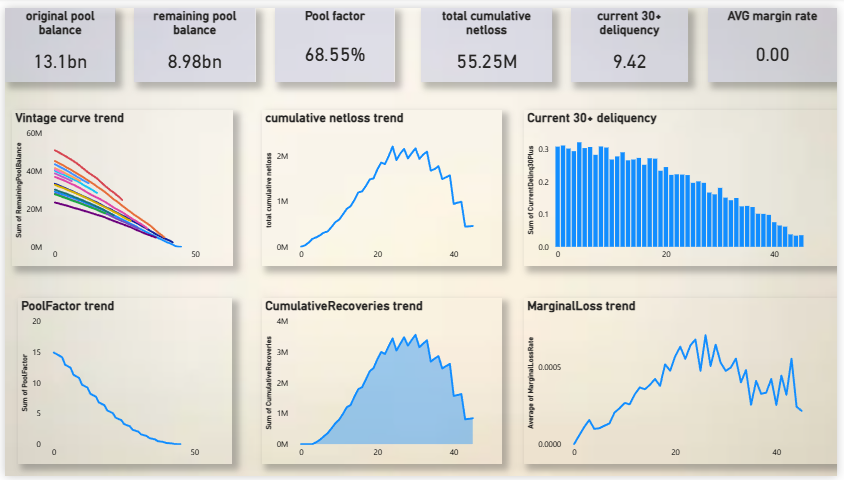

Layout of this report page (visuals, bound fields, positions):
{"tool":"powerbi","page":{"name":"vintage analysis","canvas":[1280,720],"ordinal":4},"visuals":[{"type":"kpi","title":"original pool balance","fields":{"Indicator":["staticpool.Original pool balance"],"TrendLine":["loans.LoanID"]},"box":[0,0,169.9,113.8],"z":0},{"type":"kpi","title":"remaining pool balance","fields":{"Indicator":["staticpool.Remaining pool balance"],"TrendLine":["loans.LoanID"]},"box":[198.7,0,187.2,113.8],"z":1000},{"type":"kpi","title":"Pool factor","fields":{"Indicator":["staticpool.pool factor"],"TrendLine":["loans.LoanID"]},"box":[414.7,0,184.3,113.8],"z":2000},{"type":"kpi","title":"total cumulative netloss","fields":{"Indicator":["staticpool.total cumulative netloss"],"TrendLine":["loans.LoanID"]},"box":[639.4,0,201.6,113.8],"z":3000},{"type":"kpi","title":"current 30+ deliquency","fields":{"Indicator":["staticpool.current 30+ deliquency"],"TrendLine":["loans.LoanID"]},"box":[871.2,0,180,113.8],"z":4000},{"type":"kpi","title":"AVG margin rate","fields":{"Indicator":["staticpool.Average marginloss rate"],"TrendLine":["loans.LoanID"]},"box":[1081.4,0,198.7,113.8],"z":5000},{"type":"lineChart","title":"Vintage curve trend","fields":{"Category":["staticpool.MonthsOnBook"],"Y":["Sum(staticpool.RemainingPoolBalance)"],"Series":["staticpool.VintageID"]},"box":[10.1,157,339.8,240.5],"z":6000},{"type":"lineChart","title":" PoolFactor trend","fields":{"Category":["staticpool.MonthsOnBook"],"Y":["Sum(staticpool.PoolFactor)"]},"box":[20.2,446.4,329.8,254.9],"z":7000},{"type":"lineChart","title":"cumulative netloss trend","fields":{"Y":["staticpool.total cumulative netloss"],"Category":["staticpool.MonthsOnBook"]},"box":[396,157,368.6,240.5],"z":8000},{"type":"areaChart","title":" CumulativeRecoveries trend","fields":{"Y":["Sum(staticpool.CumulativeRecoveries)"],"Category":["staticpool.MonthsOnBook"]},"box":[396,446.4,368.6,254.9],"z":9000},{"type":"columnChart","title":"Current 30+ deliquency","fields":{"Category":["staticpool.MonthsOnBook"],"Y":["Sum(staticpool.CurrentDelinq30Plus)"]},"box":[799.2,157,481,240.5],"z":10000},{"type":"lineChart","title":" MarginalLoss trend","fields":{"Category":["staticpool.MonthsOnBook"],"Y":["Avg(staticpool.MarginalLossRate)"]},"box":[799.2,446.4,481,254.9],"z":11000}]}

Visuals, with their boxes in screenshot pixels (x1, y1, x2, y2), scaled from the page's 1280x720 canvas onto the 844x480 screenshot:
"original pool balance" kpi: [0, 0, 112, 76]
"remaining pool balance" kpi: [131, 0, 254, 76]
"Pool factor" kpi: [273, 0, 395, 76]
"total cumulative netloss" kpi: [422, 0, 555, 76]
"current 30+ deliquency" kpi: [574, 0, 693, 76]
"AVG margin rate" kpi: [713, 0, 843, 76]
"Vintage curve trend" lineChart: [7, 105, 231, 265]
" PoolFactor trend" lineChart: [13, 298, 231, 468]
"cumulative netloss trend" lineChart: [261, 105, 504, 265]
" CumulativeRecoveries trend" areaChart: [261, 298, 504, 468]
"Current 30+ deliquency" columnChart: [527, 105, 843, 265]
" MarginalLoss trend" lineChart: [527, 298, 843, 468]
